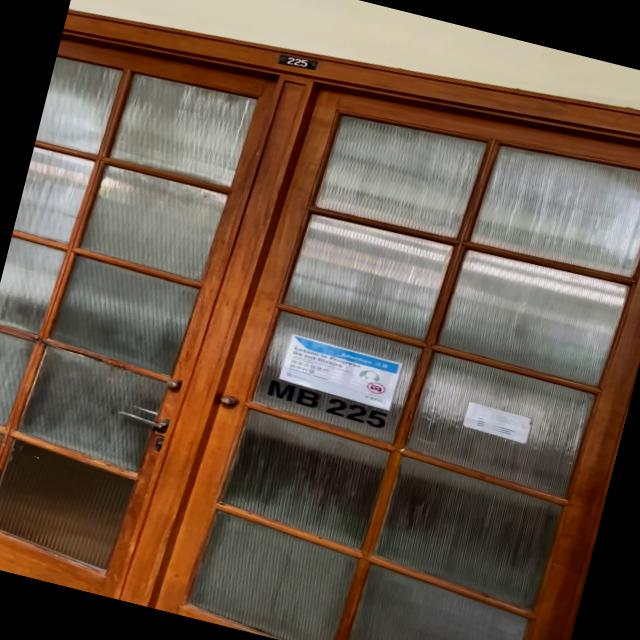room225: (274, 50, 322, 74)
room225Window: (260, 376, 392, 431)
